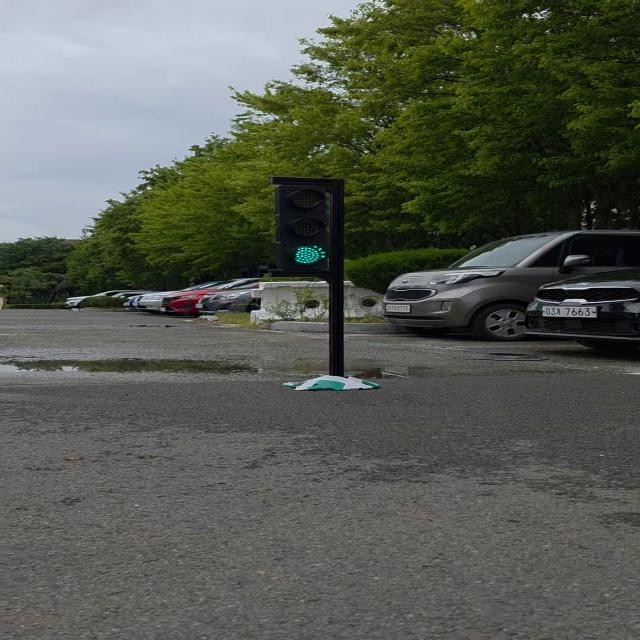green: (273, 175, 336, 273)
